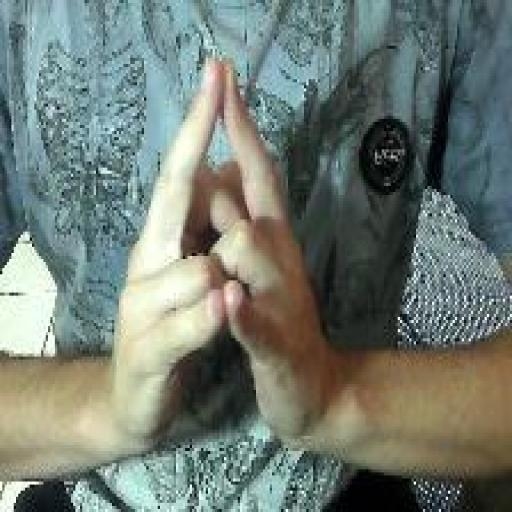Tori -bird-: (108, 52, 335, 451)
